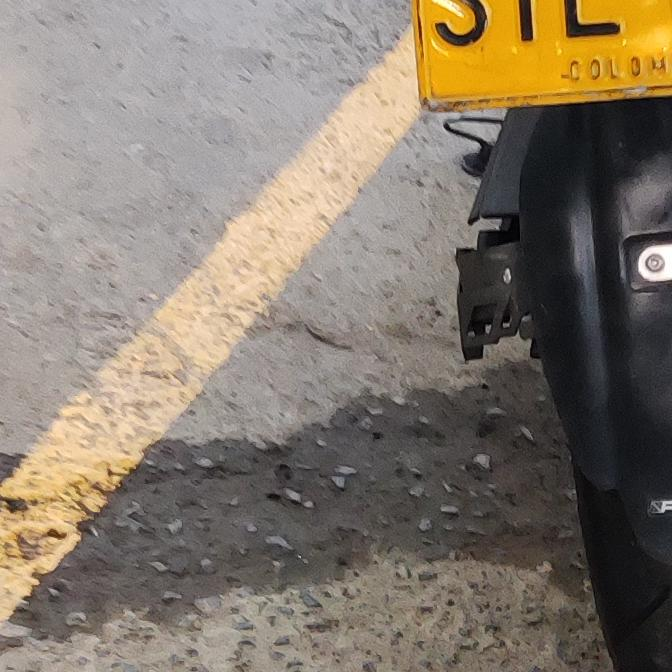plates: (405, 0, 672, 115)
